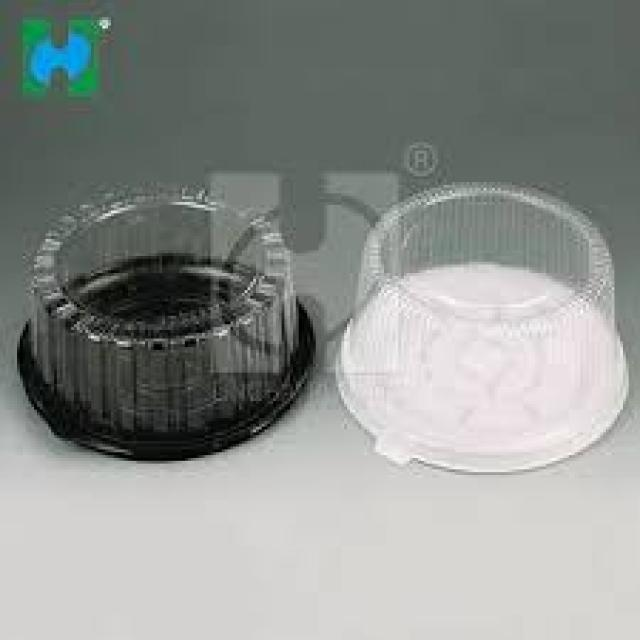disposable: (330, 151, 640, 492), (13, 172, 319, 472)
